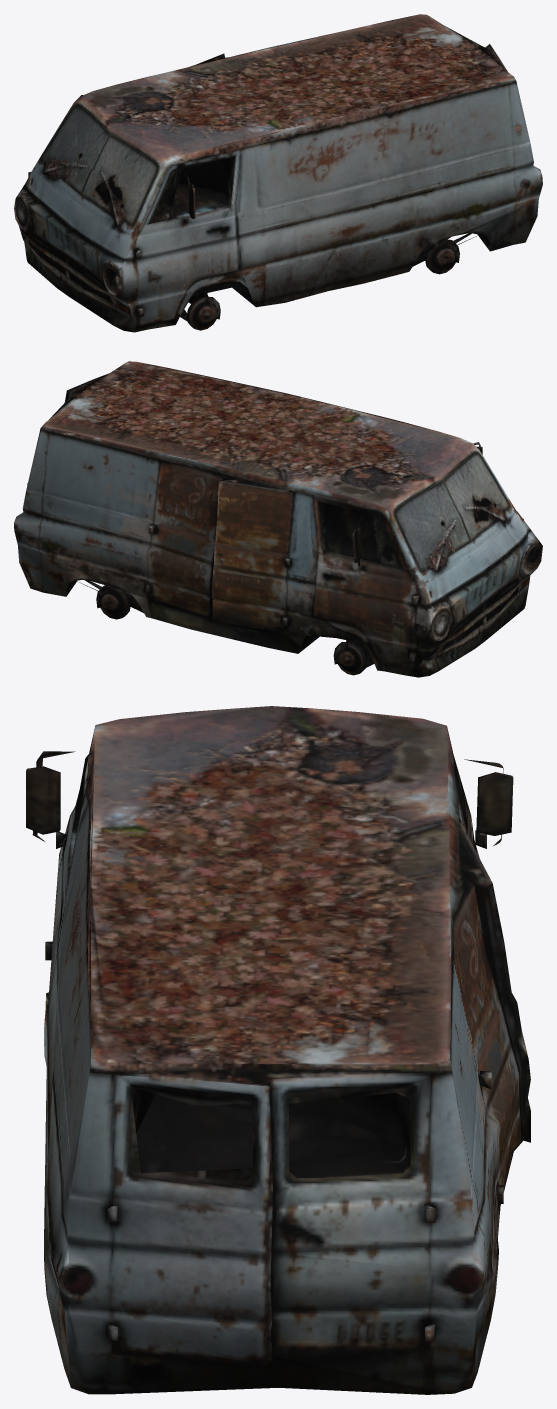
Rendered from broken_van.glb.
3 renders of one model, top to bottom at view 1: azimuth 30°, elevation 25°; view 2: azimuth 150°, elevation 25°; view 3: azimuth 270°, elevation 25°, orthographic. The views are drawn at different scales.
Size of the model in its own units: 2.48 by 0.9782 by 1.23.
Materials: 1 (1 with a texture image).
